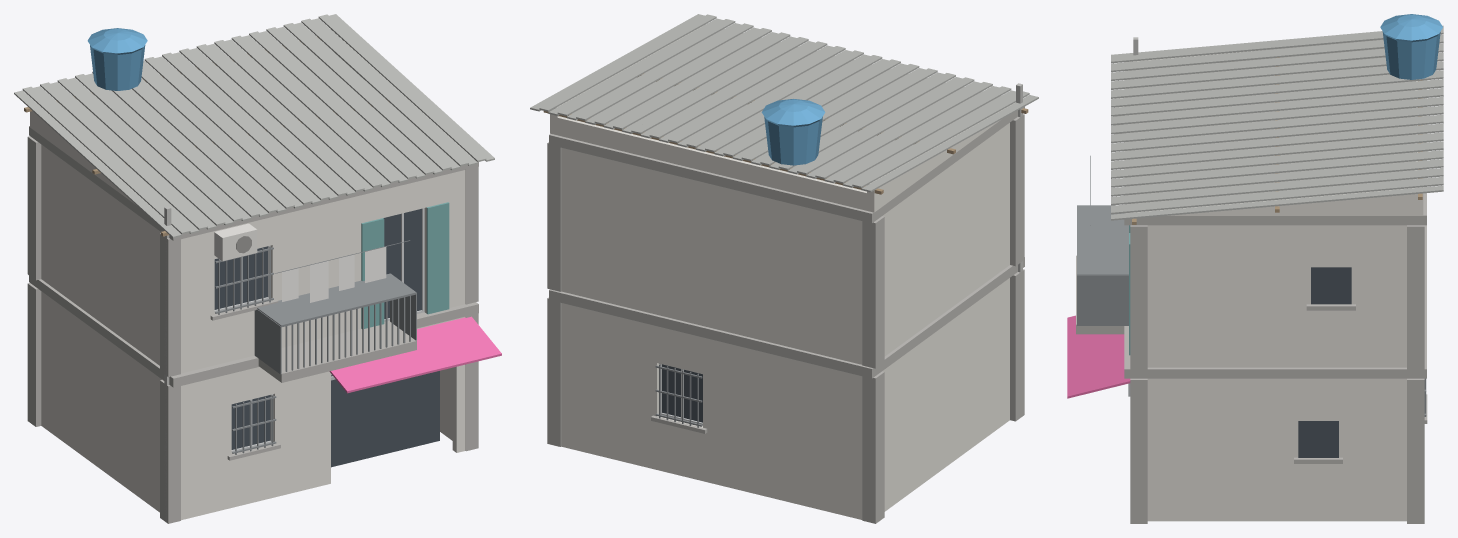
3 renders of one model, left to right at view 1: azimuth 30°, elevation 25°; view 2: azimuth 150°, elevation 25°; view 3: azimuth 270°, elevation 25°, orthographic. The views are drawn at different scales.
Visible parts, largest first — view 1: fv_h04; view 2: fv_h04; view 3: fv_h04.
Boxes of the visible parts, x1,y1,x2,y2 form: fv_h04: (14, 14, 501, 523); fv_h04: (530, 14, 1038, 523); fv_h04: (1067, 14, 1443, 523).
Size of the model in its own units: 6.66 by 7.35 by 6.45.
